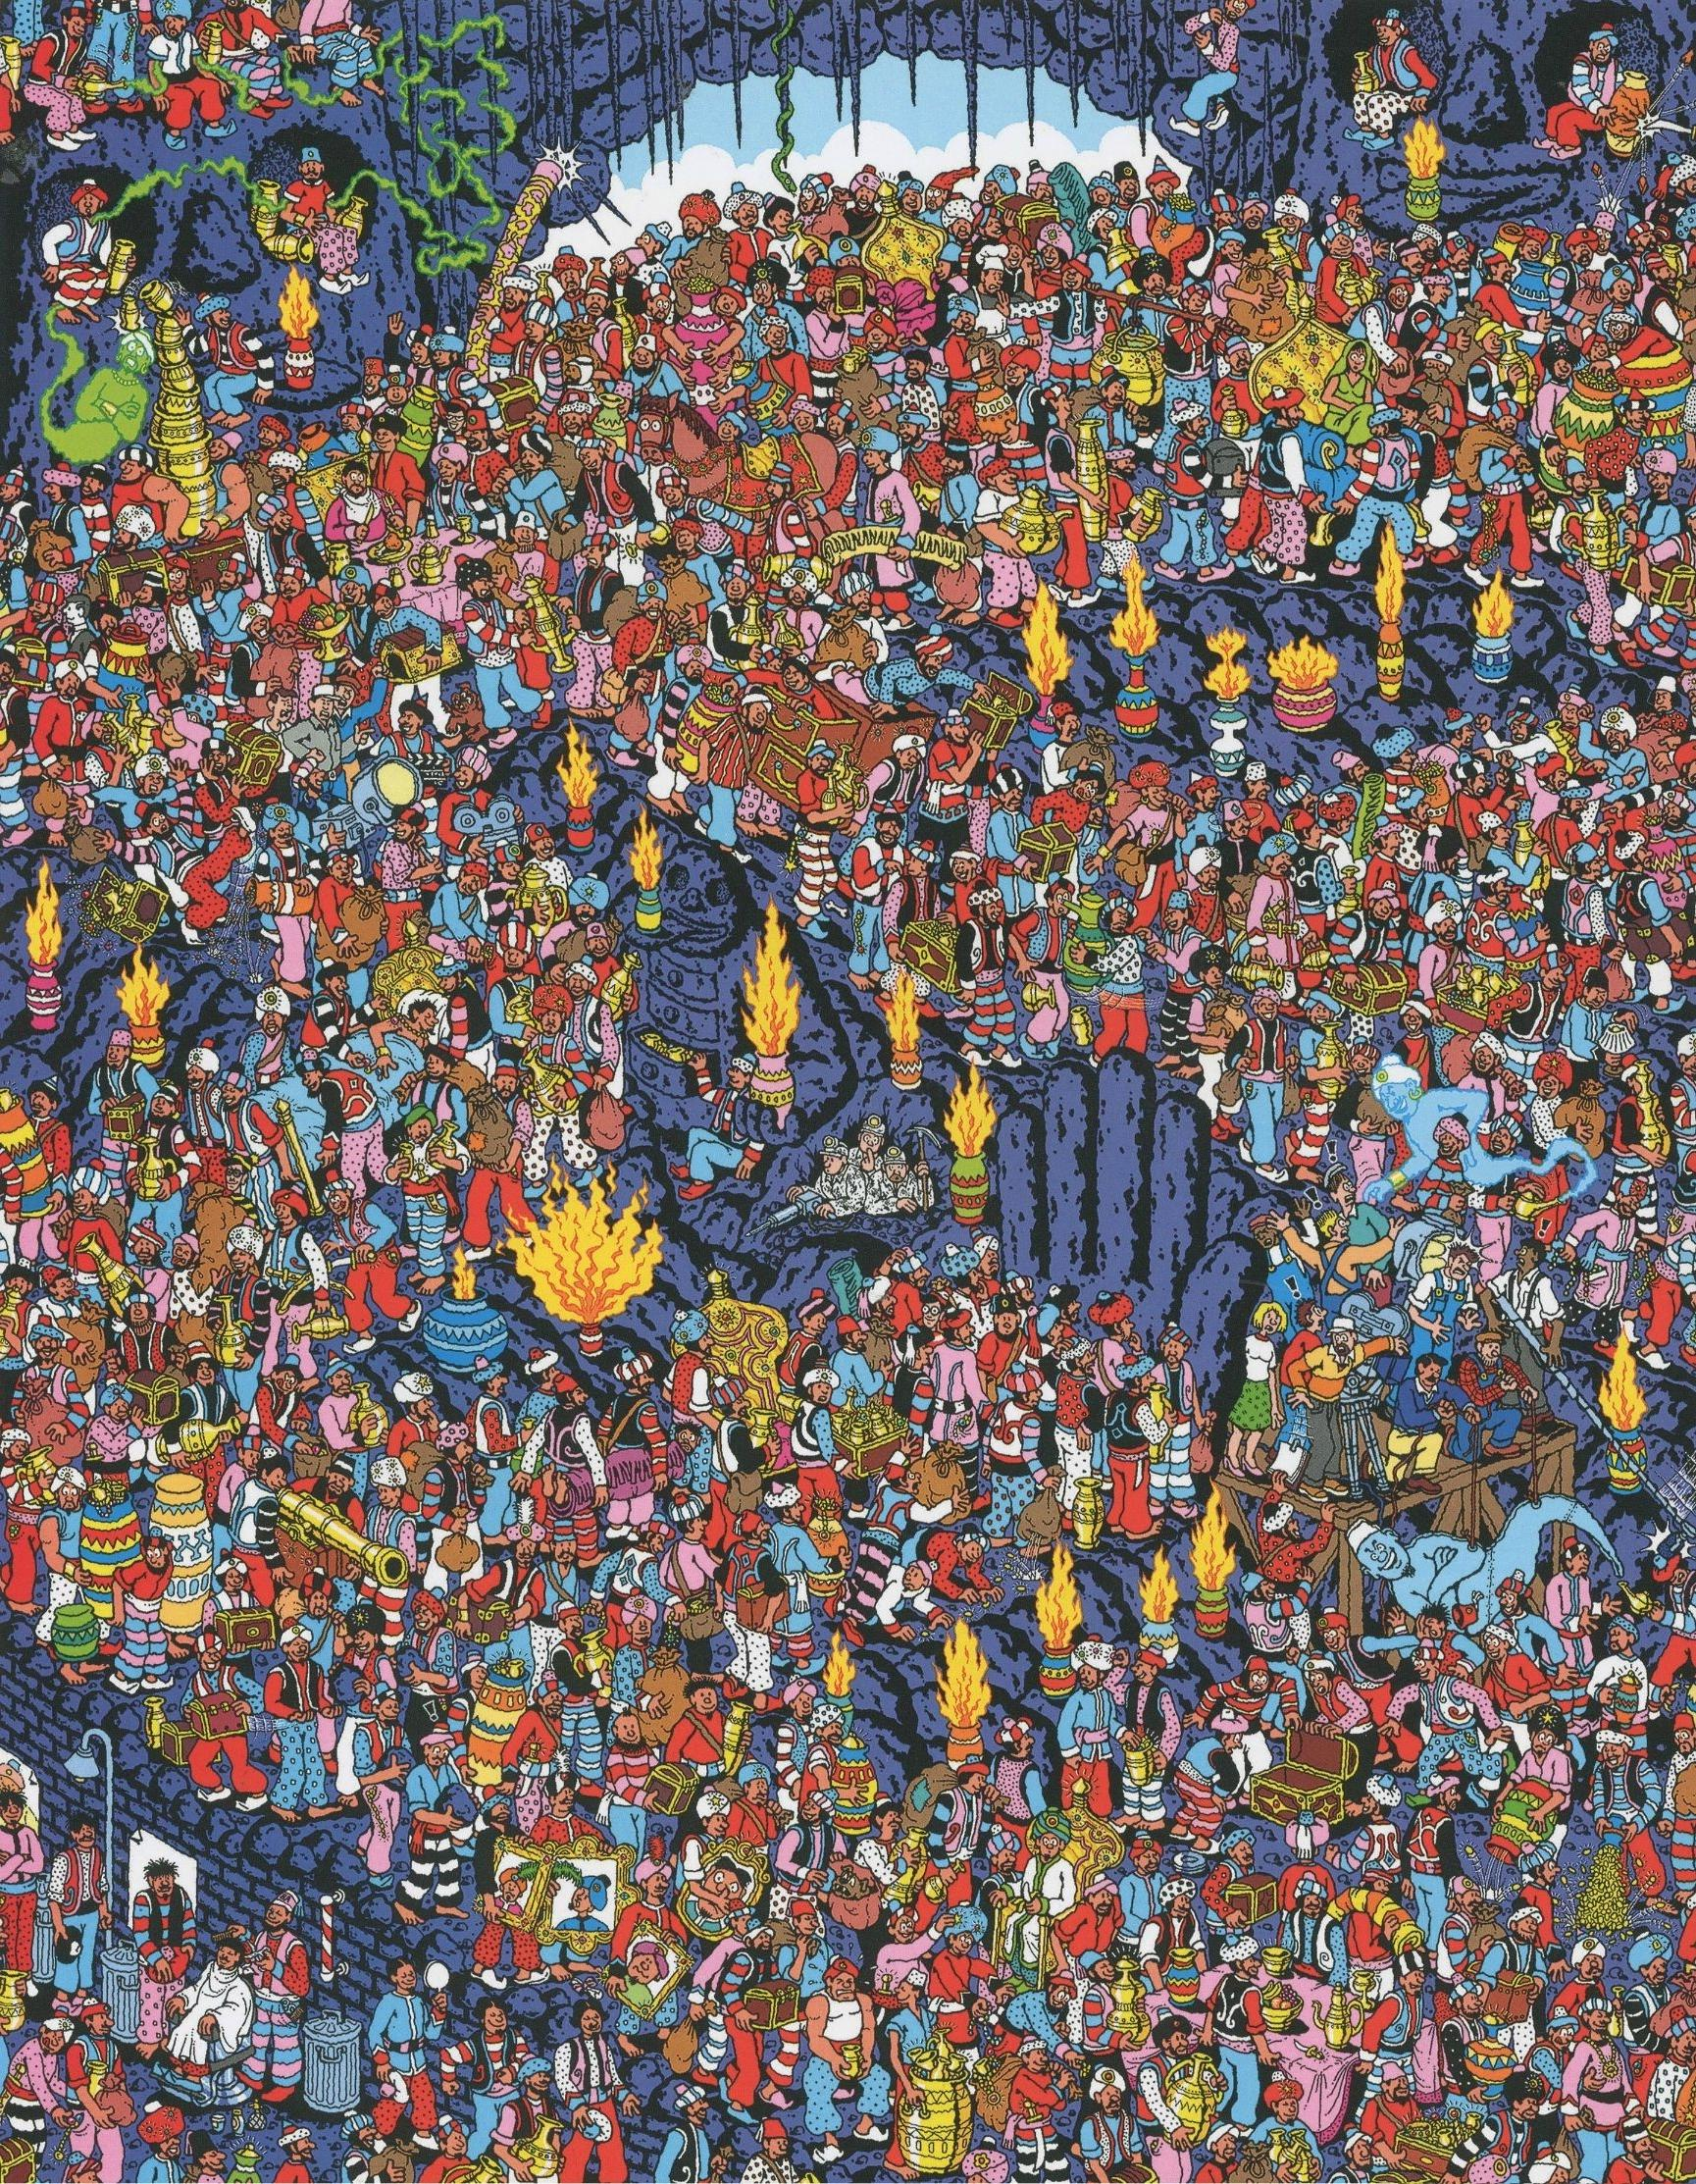waldos: (918, 1282, 957, 1345)
